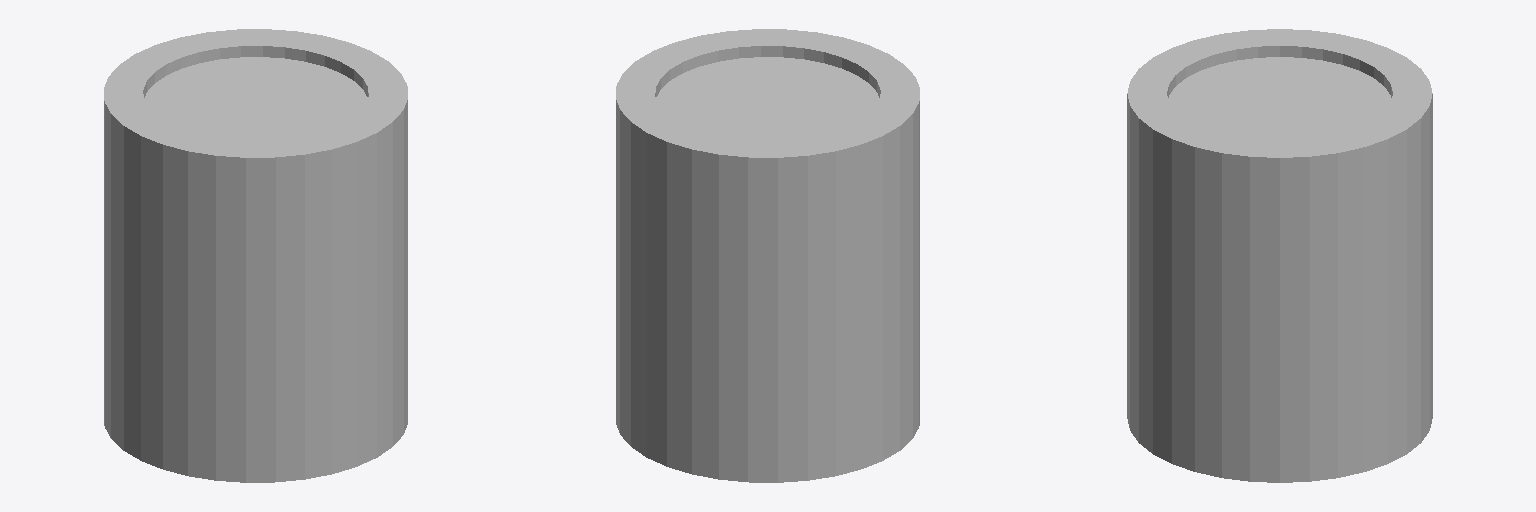
The model's file is Barrel.obj.
3 views of the same model, side by side, from view 1: azimuth 30°, elevation 25°; view 2: azimuth 150°, elevation 25°; view 3: azimuth 270°, elevation 25° (orthographic).
Parts seen in each view (by area): view 1: Cylinder; view 2: Cylinder; view 3: Cylinder.
Boxes of the visible parts, x1=… form: Cylinder: x1=104, y1=29, x2=407, y2=482; Cylinder: x1=616, y1=29, x2=919, y2=482; Cylinder: x1=1127, y1=29, x2=1432, y2=482.
Bounding box in the file's own units: 0.9914 × 1.16 × 0.9914.